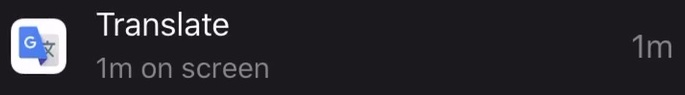name: (91, 2, 240, 46)
time: (93, 54, 139, 88)
